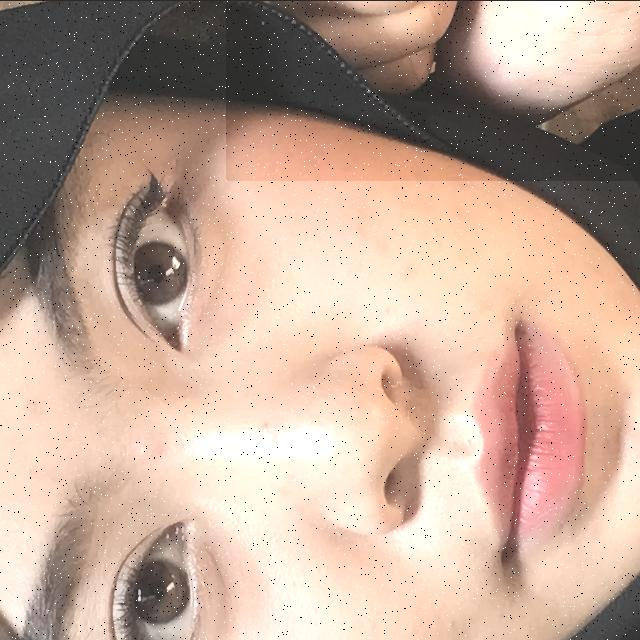ibu: (226, 0, 640, 180)
